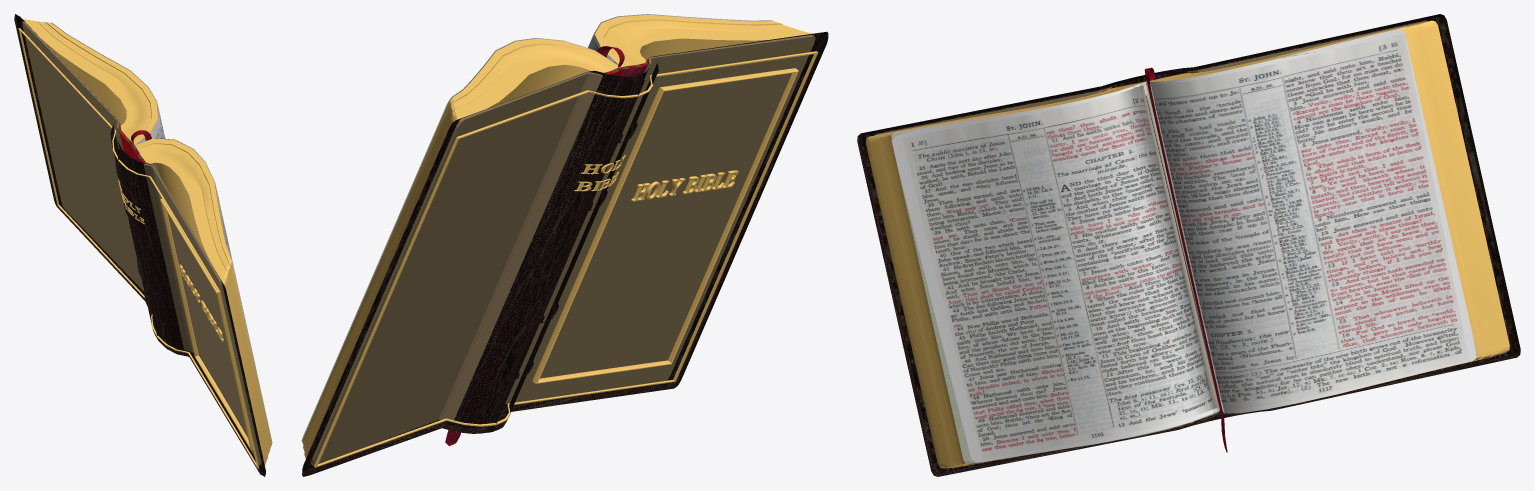
Rendered from bible_open_a.glb.
The picture shows the model from 3 angles, left to right: view 1: azimuth 30°, elevation 25°; view 2: azimuth 150°, elevation 25°; view 3: azimuth 270°, elevation 25°; orthographic projection. The views are drawn at different scales.
Parts seen in each view (by area): view 1: empastado 2.001, golden pages, hard cover.001, golden frame 1.001, text pages.1, text pages.2, empastado 1.001; view 2: empastado 2.001, hard cover.001, golden pages, golden frame 1.001, text pages.2; view 3: text pages.1, text pages.2, golden pages, hard cover.001, empastado 2.001, bookmark.001.
Part boxes in pixels (x1,y1,x2,y2): empastado 2.001: [22, 21, 261, 465]; golden pages: [23, 19, 271, 465]; hard cover.001: [14, 14, 265, 476]; golden frame 1.001: [18, 28, 259, 468]; text pages.1: [135, 138, 272, 443]; text pages.2: [51, 22, 165, 144]; empastado 1.001: [119, 122, 150, 164]; empastado 2.001: [311, 35, 815, 465]; hard cover.001: [302, 31, 828, 476]; golden pages: [302, 14, 811, 458]; golden frame 1.001: [314, 51, 818, 467]; text pages.2: [301, 38, 617, 441]; text pages.1: [891, 81, 1220, 464]; text pages.2: [1150, 29, 1476, 413]; golden pages: [866, 20, 1509, 468]; hard cover.001: [857, 14, 1520, 476]; empastado 2.001: [875, 20, 1427, 135]; bookmark.001: [1144, 67, 1227, 452].
Bounding box in the file's own units: 0.6841 × 1.59 × 2.22.
Materials: 7 (5 with a texture image).
